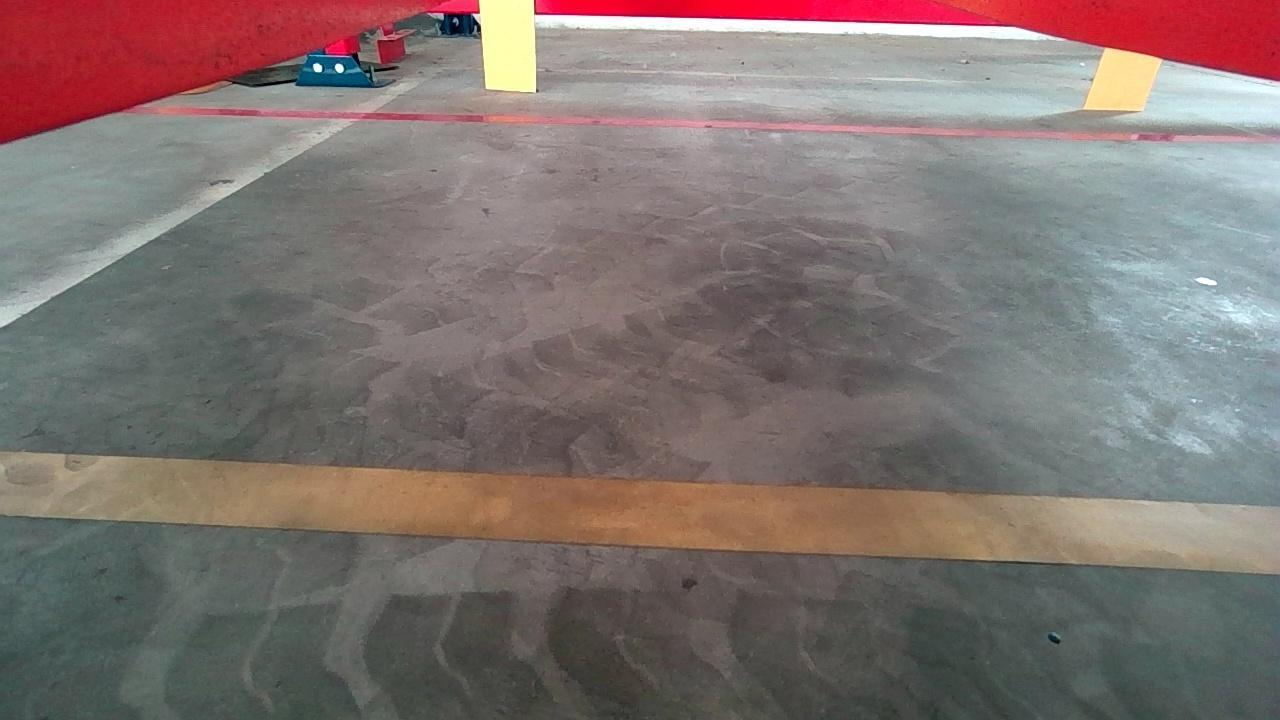h_rack: (433, 0, 1004, 25)
orange_strip: (479, 0, 537, 89), (1081, 46, 1159, 110)
red_line: (113, 104, 1280, 142)
yellow_line: (0, 450, 1280, 574)
